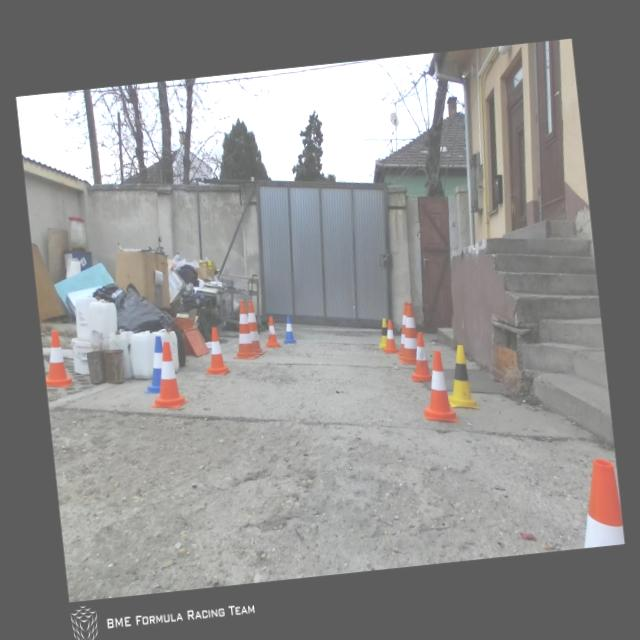blue_cone: (138, 335, 168, 394), (280, 314, 296, 344)
large_orange_cone: (227, 298, 259, 361), (394, 302, 420, 366), (244, 298, 266, 356), (392, 302, 412, 358)
orange_cone: (574, 457, 624, 548), (144, 340, 189, 411), (417, 348, 458, 425), (40, 328, 76, 388), (200, 326, 230, 376), (407, 331, 432, 382), (380, 319, 398, 354), (262, 315, 280, 348)
yellow_cone: (442, 342, 478, 412), (375, 318, 389, 348)
